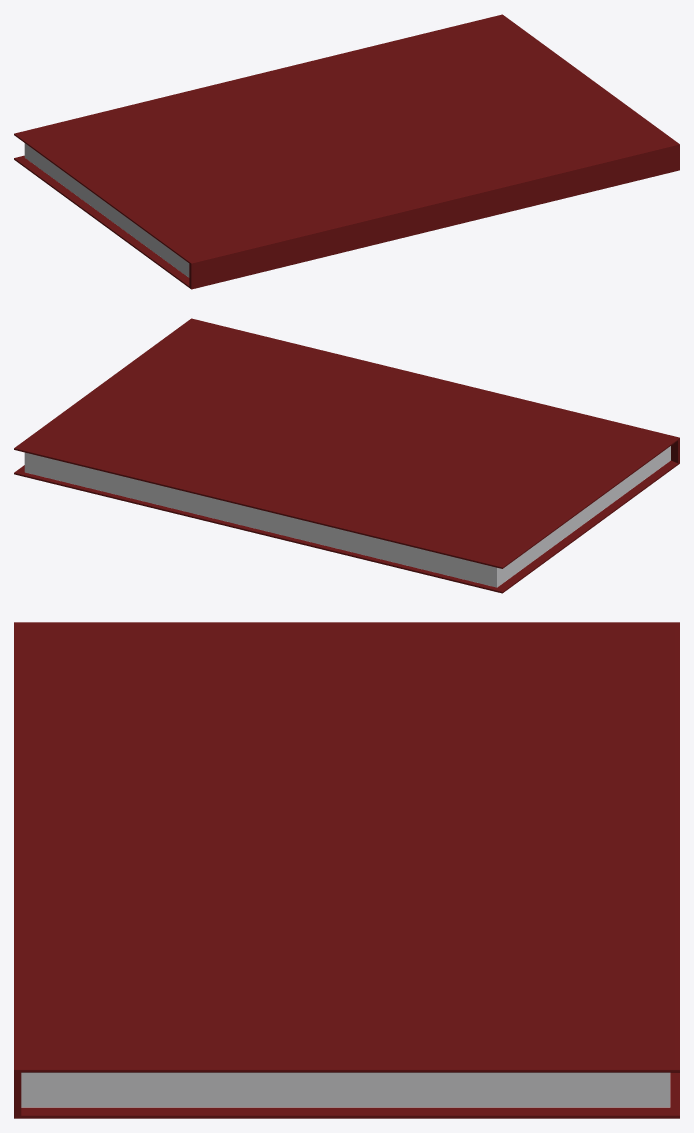
Rendered from textbook.fbx.
3 renders of one model, top to bottom at view 1: azimuth 30°, elevation 25°; view 2: azimuth 150°, elevation 25°; view 3: azimuth 270°, elevation 25°, orthographic. The views are drawn at different scales.
Visible parts, largest first — view 1: pCube1; view 2: pCube1; view 3: pCube1.
Part boxes in pixels (x1,y1,x2,y2): pCube1: [14, 14, 679, 289]; pCube1: [14, 318, 679, 593]; pCube1: [14, 622, 679, 1118].
Bounding box in the file's own units: 28.82 × 1.47 × 18.12.
